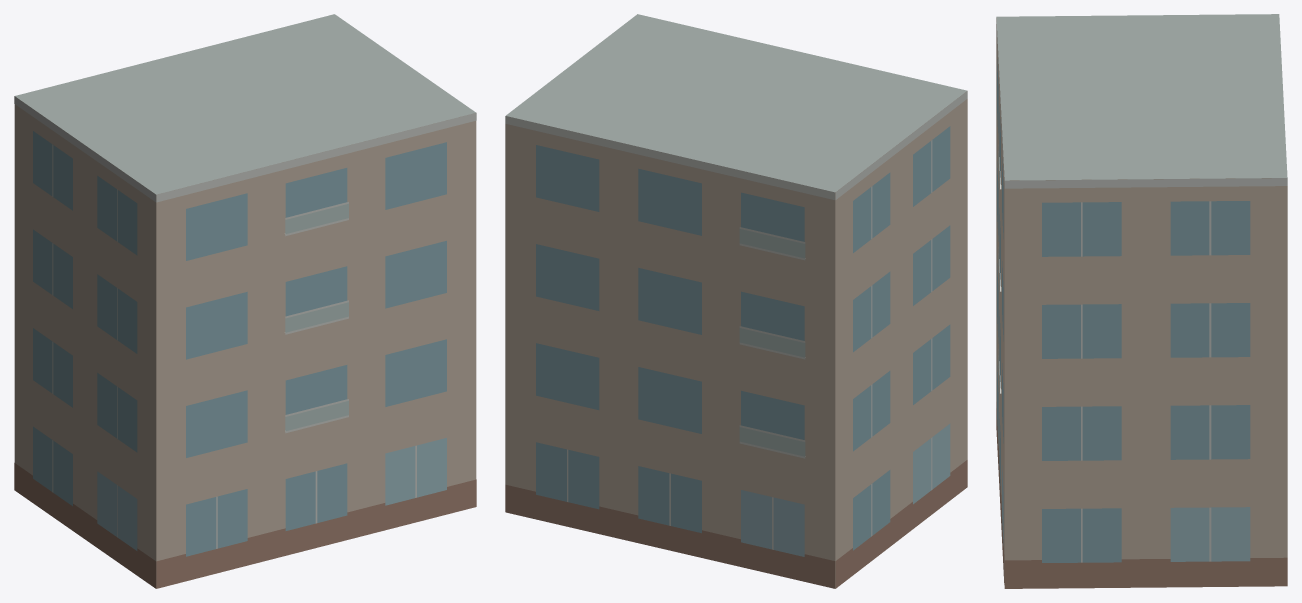
The model's file is residential-152cd033-13b7-4bad-97f0-caefd9f0d5eb.glb.
The picture shows the model from 3 angles, left to right: view 1: azimuth 30°, elevation 25°; view 2: azimuth 150°, elevation 25°; view 3: azimuth 270°, elevation 25°; orthographic projection. The views are drawn at different scales.
Parts seen in each view (by area): view 1: residential-152cd033-13b7-4bad-97f0-caefd9f0d5eb.tmp; view 2: residential-152cd033-13b7-4bad-97f0-caefd9f0d5eb.tmp; view 3: residential-152cd033-13b7-4bad-97f0-caefd9f0d5eb.tmp.
Part boxes in pixels (x1,y1,x2,y2): residential-152cd033-13b7-4bad-97f0-caefd9f0d5eb.tmp: (14, 14, 476, 588); residential-152cd033-13b7-4bad-97f0-caefd9f0d5eb.tmp: (505, 14, 967, 588); residential-152cd033-13b7-4bad-97f0-caefd9f0d5eb.tmp: (996, 14, 1287, 588).
Bounding box in the file's own units: 10.68 × 12.2 × 7.89.
